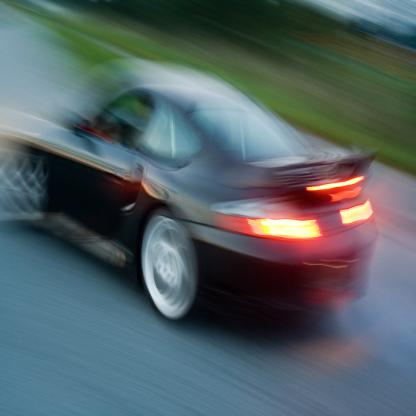Car: (13, 68, 378, 330)
